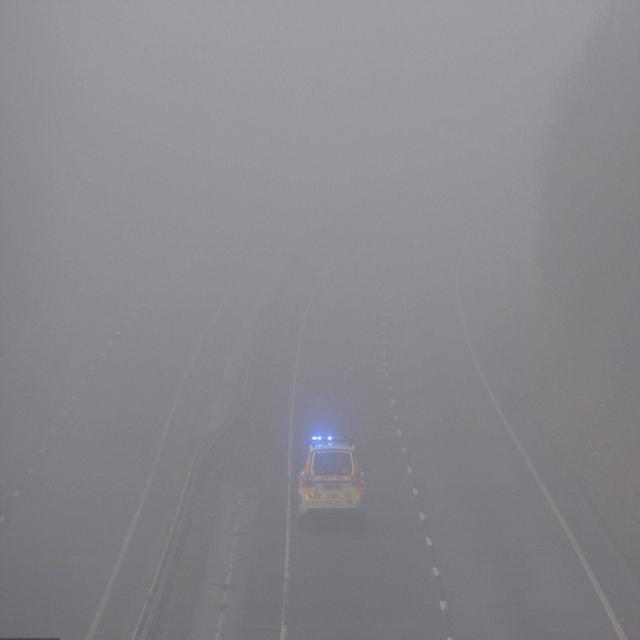car: (296, 440, 364, 522)
